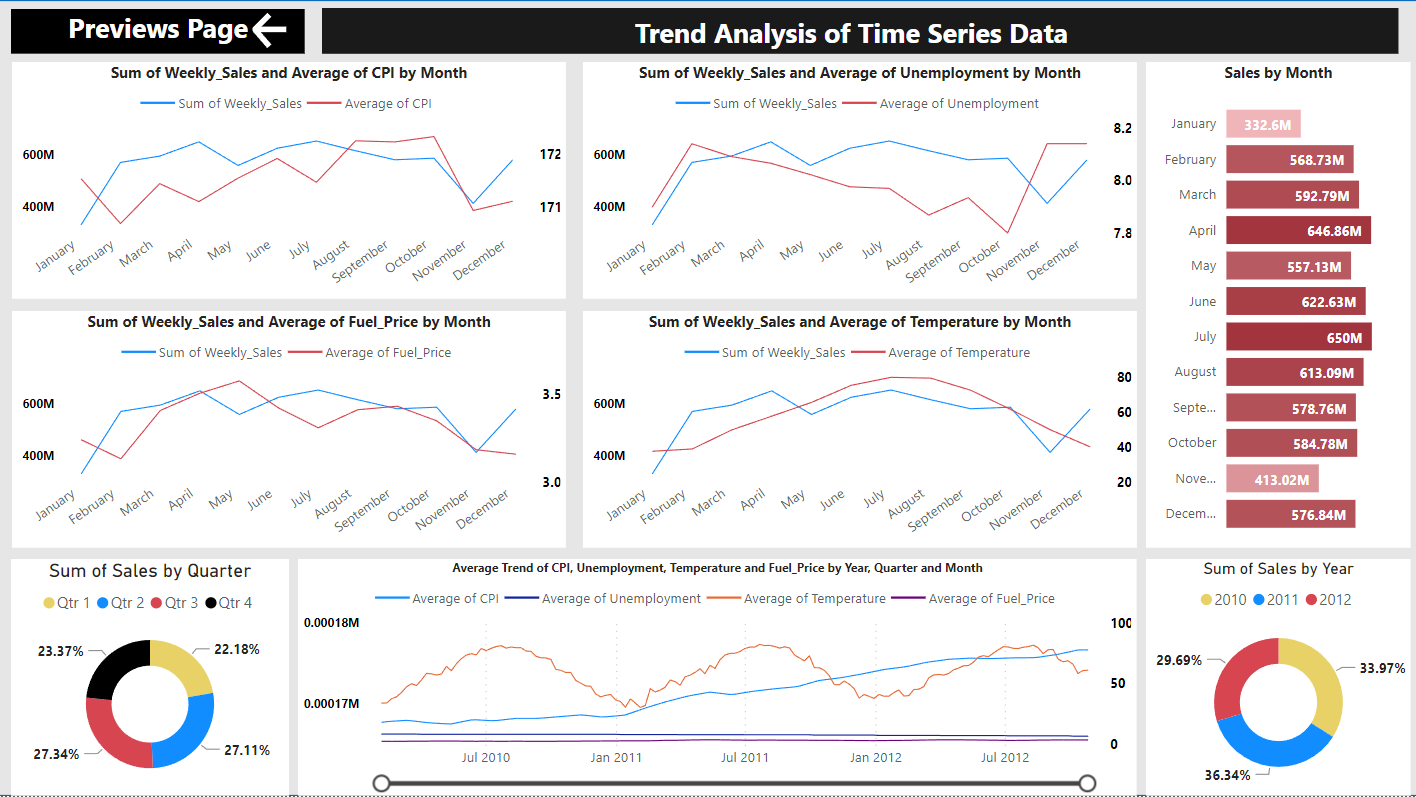

What the dashboard file says about the page in this screenshot:
{"tool":"powerbi","page":{"name":"Paramaters that influence sales","canvas":[1280,720],"ordinal":1},"visuals":[{"type":"shape","box":[0,7.2,1279.7,712.8],"z":0},{"type":"shape","box":[296.4,14.3,964.5,41.2],"z":1000},{"type":"textbox","box":[290.1,14.3,960.9,53.7],"z":2000},{"type":"lineChart","fields":{"Y":["Sum(Walmart DataSet.Weekly_Sales)"],"Y2":["Avg(Walmart DataSet.Unemployment)"],"Category":["Walmart DataSet.Date.Variation.Date Hierarchy.Month"]},"box":[530,62.7,496.1,212.2],"z":3000},{"type":"actionButton","title":"Previews Page","box":[17.9,15.2,263.3,40.3],"z":4000},{"type":"lineChart","fields":{"Y":["Sum(Walmart DataSet.Weekly_Sales)"],"Y2":["Avg(Walmart DataSet.Fuel_Price)"],"Category":["Walmart DataSet.Date.Variation.Date Hierarchy.Month"]},"box":[18.7,285.7,496.1,212.2],"z":5000},{"type":"actionButton","box":[230.1,14.3,44.8,40.3],"z":6000},{"type":"lineChart","fields":{"Y":["Sum(Walmart DataSet.Weekly_Sales)"],"Y2":["Avg(Walmart DataSet.Temperature)"],"Category":["Walmart DataSet.Date.Variation.Date Hierarchy.Month"]},"box":[530,285.7,496.1,212.2],"z":7000},{"type":"lineChart","fields":{"Y":["Sum(Walmart DataSet.Weekly_Sales)"],"Y2":["Avg(Walmart DataSet.CPI)"],"Category":["Walmart DataSet.Date.Variation.Date Hierarchy.Month"]},"box":[18.8,62.3,496.1,212.2],"z":8000},{"type":"barChart","title":"Sales by Month","fields":{"Category":["Walmart DataSet.Date.Variation.Date Hierarchy.Month"],"Y":["Walmart DataSet.Sum of Sales"]},"box":[1034.3,62.7,237.3,435.2],"z":9000},{"type":"donutChart","fields":{"Category":["Walmart DataSet.Date.Variation.Date Hierarchy.Quarter"],"Y":["Walmart DataSet.Sum of Sales"]},"box":[17.9,507.8,249,212.2],"z":10000},{"type":"donutChart","fields":{"Y":["Walmart DataSet.Sum of Sales"],"Category":["Walmart DataSet.Date.Variation.Date Hierarchy.Year"]},"box":[1034.3,507.8,237.3,212.2],"z":11000},{"type":"lineChart","title":"Average Trend of CPI,  Unemployment,  Temperature and Fuel_Price by Year, Quarter and Month","fields":{"Category":["Walmart DataSet.Date.Variation.Date Hierarchy.Year","Walmart DataSet.Date.Variation.Date Hierarchy.Quarter","Walmart DataSet.Date.Variation.Date Hierarchy.Month","Walmart DataSet.Date.Variation.Date Hierarchy.Day"],"Y":["Avg(Walmart DataSet.CPI)"],"Y2":["Avg(Walmart DataSet.Unemployment)","Avg(Walmart DataSet.Temperature)","Avg(Walmart DataSet.Fuel_Price)"]},"box":[274.9,507.8,751.3,212.2],"z":12000}]}

Visuals, with their boxes in screenshot pixels (x1, y1, x2, y2), scaled from the page's 1280x720 canvas onto the 1416x797 screenshot:
shape: 0/8/1415/796
shape: 328/16/1395/61
textbox: 321/16/1384/75
lineChart - Sum(Walmart DataSet.Weekly_Sales) x Avg(Walmart DataSet.Unemployment): 586/69/1135/304
"Previews Page" actionButton: 20/17/311/61
lineChart - Sum(Walmart DataSet.Weekly_Sales) x Avg(Walmart DataSet.Fuel_Price): 21/316/569/551
actionButton: 255/16/304/60
lineChart - Sum(Walmart DataSet.Weekly_Sales) x Avg(Walmart DataSet.Temperature): 586/316/1135/551
lineChart - Sum(Walmart DataSet.Weekly_Sales) x Avg(Walmart DataSet.CPI): 21/69/570/304
"Sales by Month" barChart: 1144/69/1407/551
donutChart - Walmart DataSet.Date.Variation.Date Hierarchy.Quarter x Walmart DataSet.Sum of Sales: 20/562/295/796
donutChart - Walmart DataSet.Sum of Sales x Walmart DataSet.Date.Variation.Date Hierarchy.Year: 1144/562/1407/796
"Average Trend of CPI,  Unemployment,  Temperature and Fuel_Price by Year, Quarter and Month" lineChart: 304/562/1135/796
